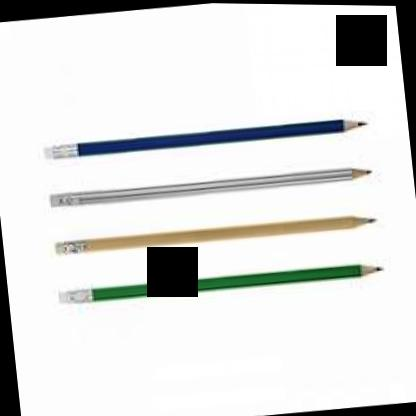pencil: (40, 111, 378, 161), (48, 161, 380, 210), (54, 208, 385, 256), (56, 257, 393, 304)
